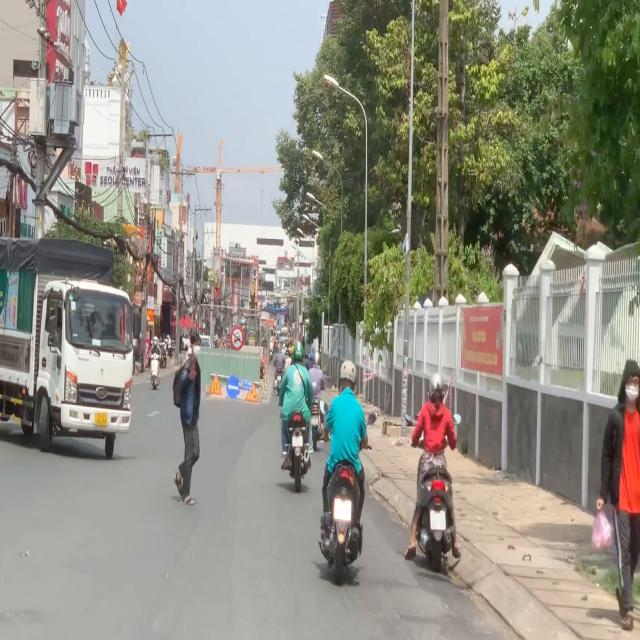Cam con lai: (231, 325, 243, 349)
Nguy hiem: (208, 373, 223, 396)
Re trai: (227, 372, 240, 401)
